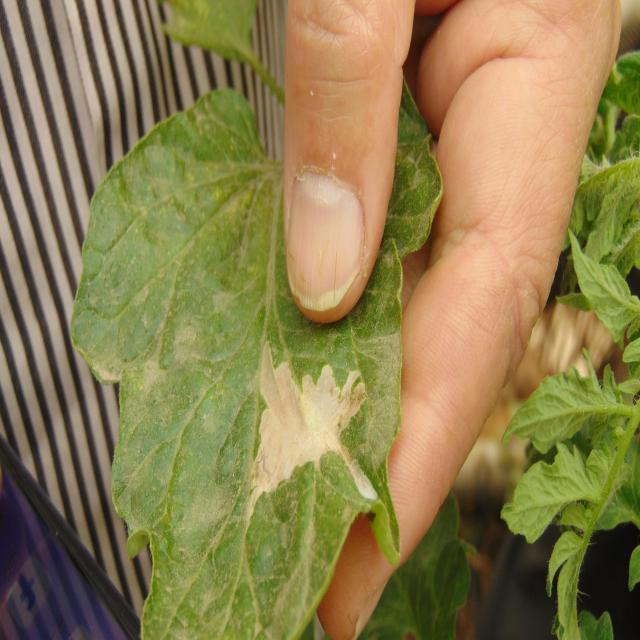Tuta absoluta: (246, 342, 390, 534)
